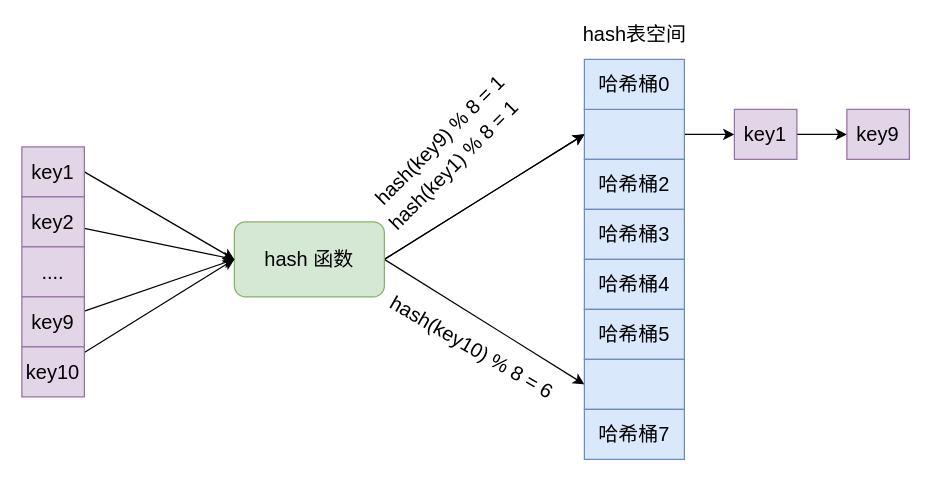
The diagram is 931 pixels wide and 481 high, and some of its shapes have lost their labels. Here are the shapes that lost their labels. From the top down, the centre of each, then its label:
point 633,133: 哈希桶1
point 633,383: 哈希桶6
